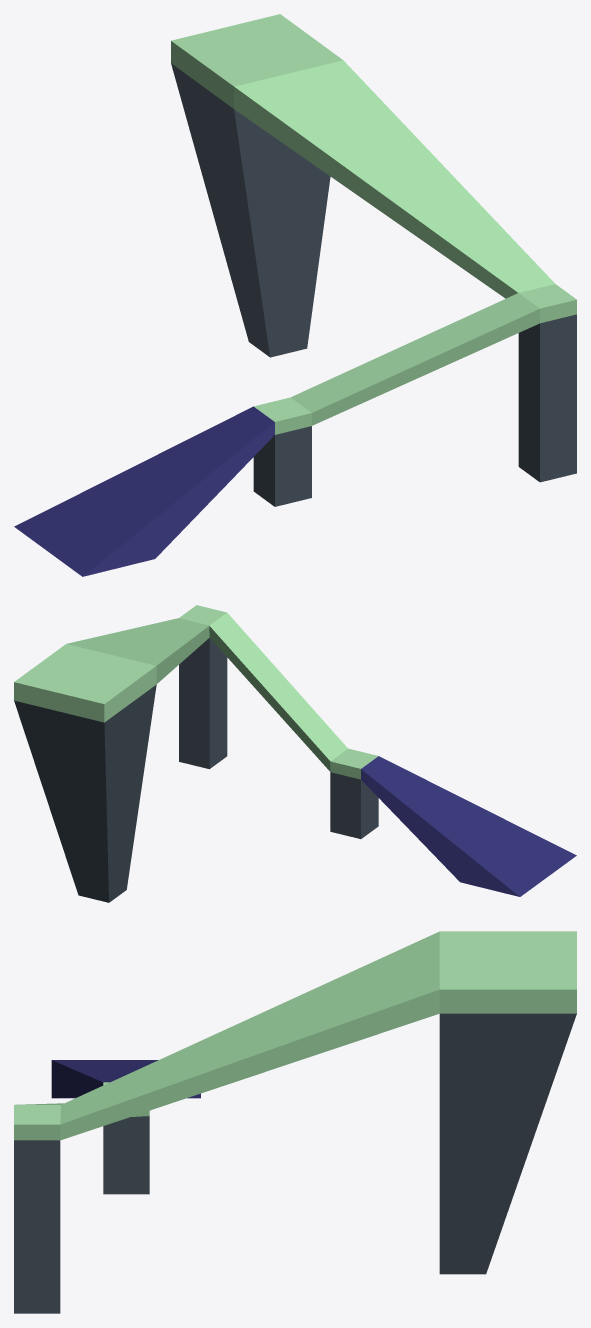
Rendered from bridge.fbx.
3 views of the same model, one above another, from view 1: azimuth 30°, elevation 25°; view 2: azimuth 150°, elevation 25°; view 3: azimuth 270°, elevation 25° (orthographic). The views are drawn at different scales.
Visible parts, largest first — view 1: Cube; view 2: Cube; view 3: Cube.
Boxes of the visible parts, left/top/right/bottom form: Cube: left=14, top=14, right=576, bottom=576; Cube: left=14, top=605, right=576, bottom=902; Cube: left=14, top=931, right=576, bottom=1313.
Bounding box in the file's own units: 2580 × 1445 × 2424.
